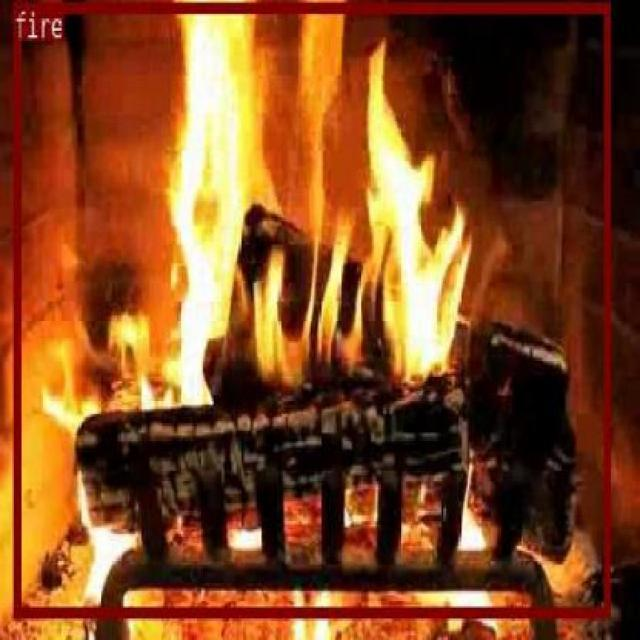Fire: (311, 309, 596, 616)
